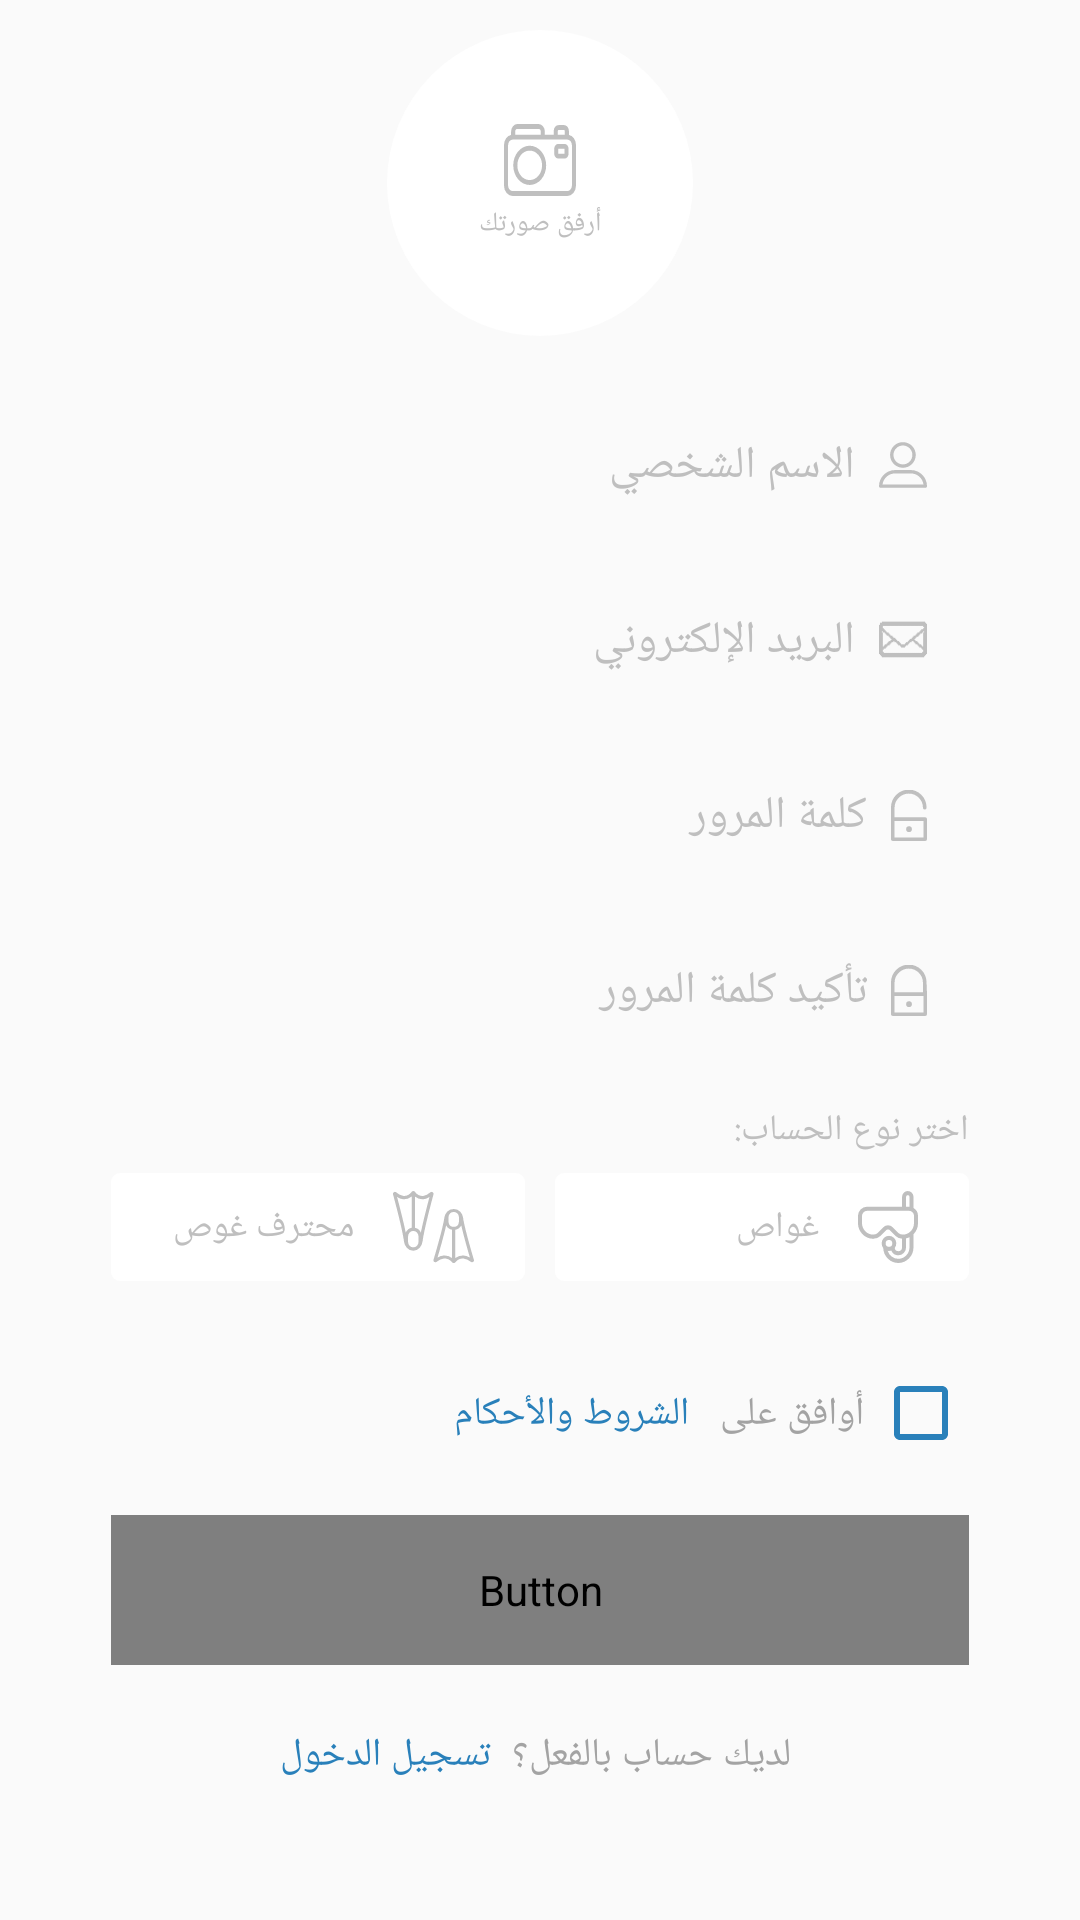

Icon bounding boxes for this 1080x1920 phone screenshot, format rect(x1, y1, x2, y2):
camera: rect(504, 124, 576, 196)
